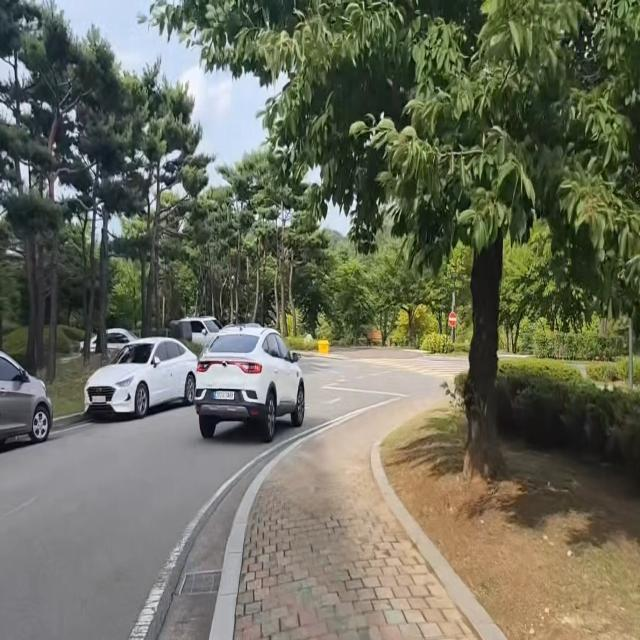obstacle: (190, 316, 312, 446)
